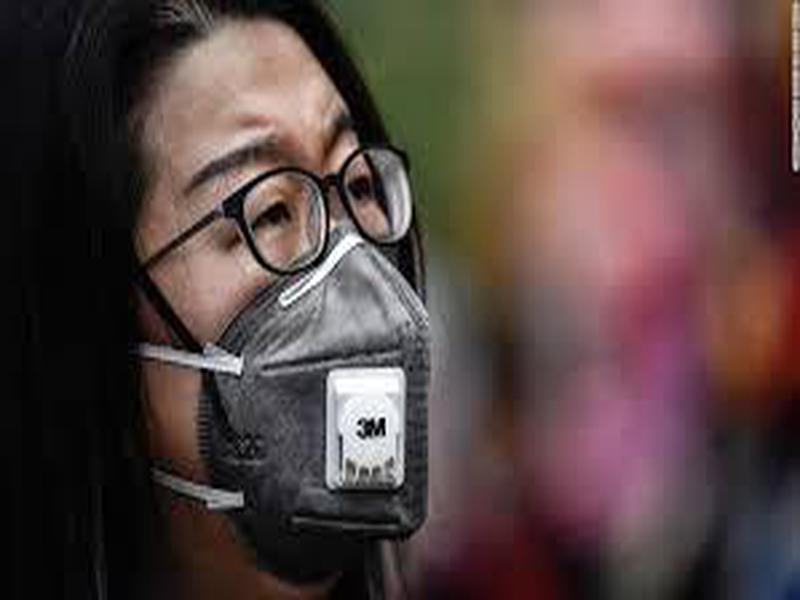with_mask: (37, 1, 441, 582)
